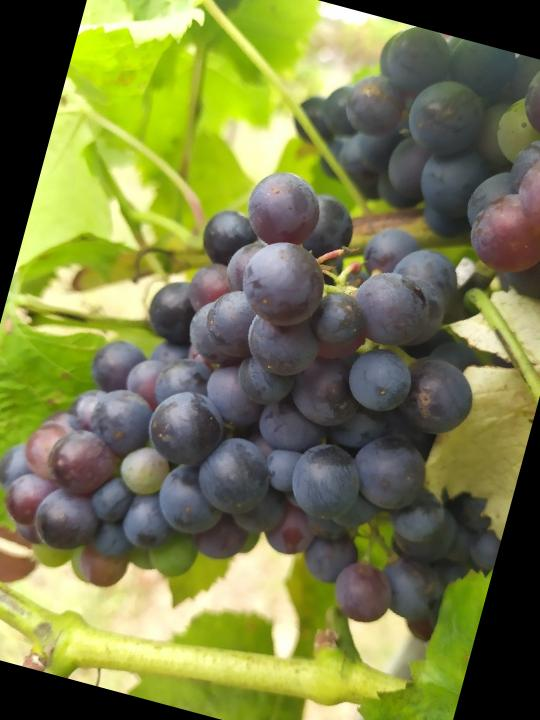grape: (0, 122, 519, 670)
